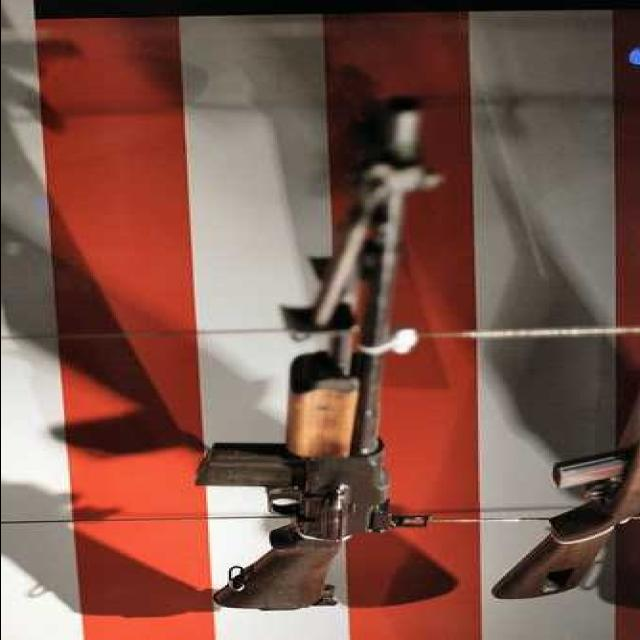heavyweapon: (164, 84, 461, 618)
